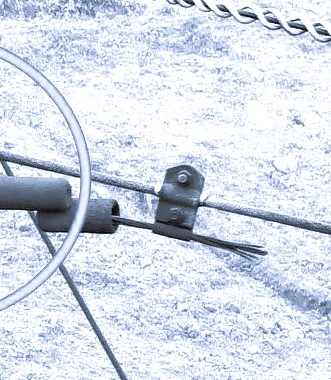Damage of shockproof hammer: (29, 146, 274, 266)
